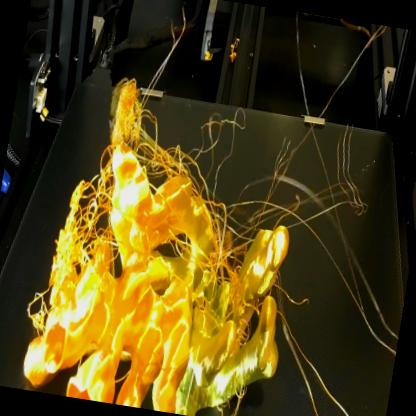fail: (179, 103, 372, 230), (61, 154, 117, 241), (134, 112, 187, 183)
